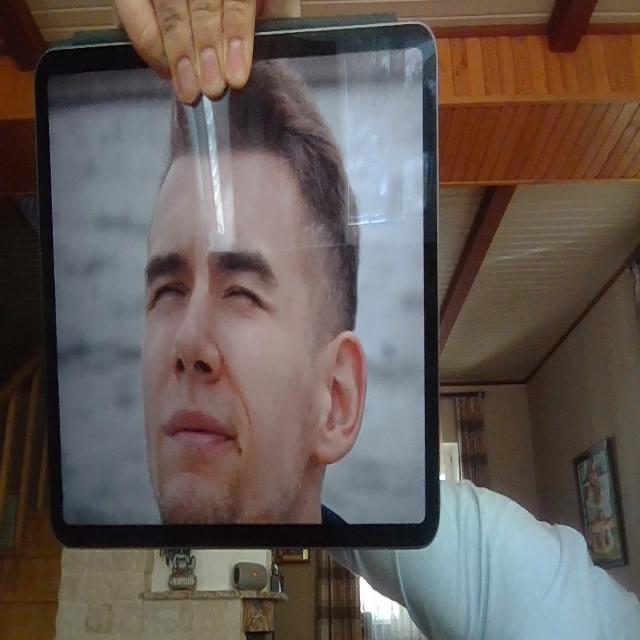device: (41, 51, 439, 546)
